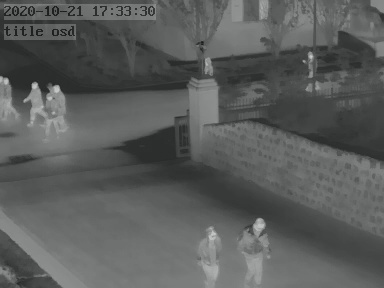person: (241, 214, 266, 288), (198, 220, 223, 288), (46, 84, 66, 135), (25, 78, 46, 123), (1, 74, 19, 120), (305, 50, 317, 83)
